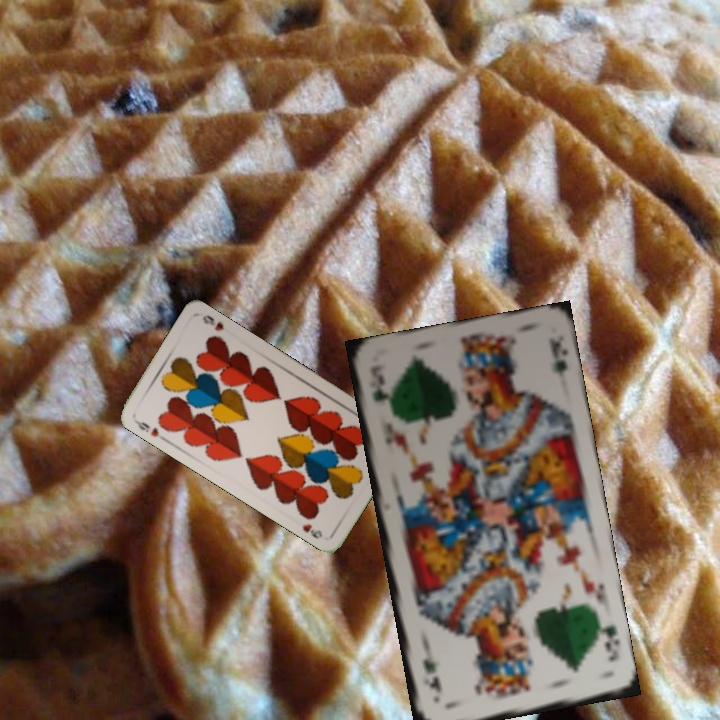GK: (592, 615, 623, 663), (368, 369, 390, 404)
H9: (130, 416, 167, 443)
